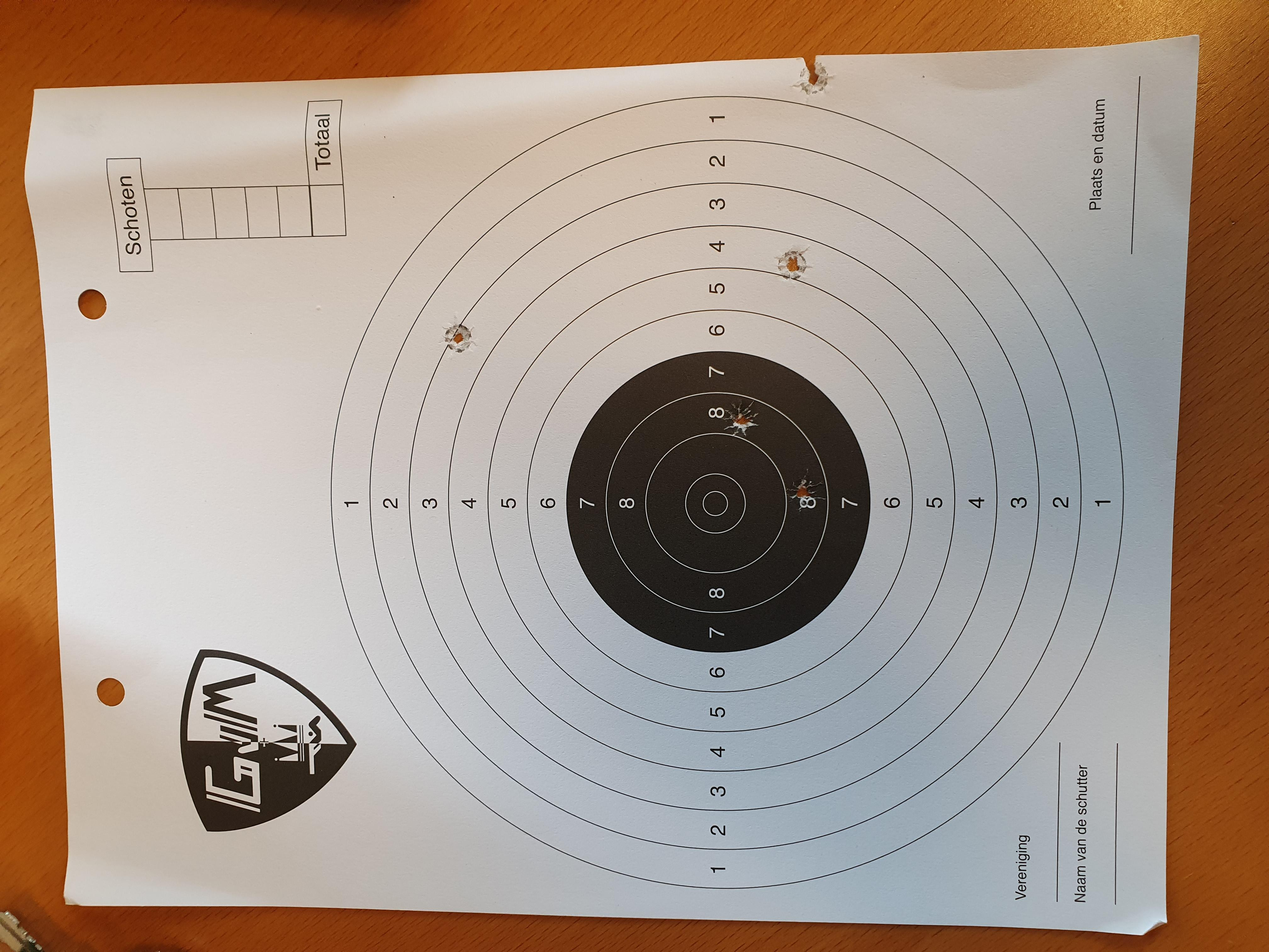hole: (1133, 592, 1197, 628), (683, 540, 738, 572), (794, 329, 849, 360), (891, 578, 943, 609), (591, 589, 640, 619)
